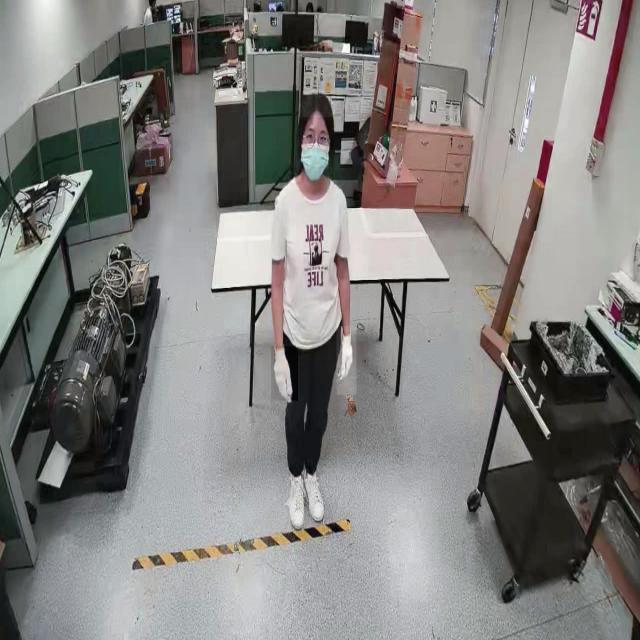face_mask: (296, 129, 332, 189)
glasses: (303, 129, 331, 150)
hand_glove: (270, 346, 298, 402), (336, 326, 356, 396)
head_nohelmet: (301, 91, 335, 118)
person: (260, 86, 356, 545)
shoes: (283, 463, 307, 525), (305, 462, 325, 523)
